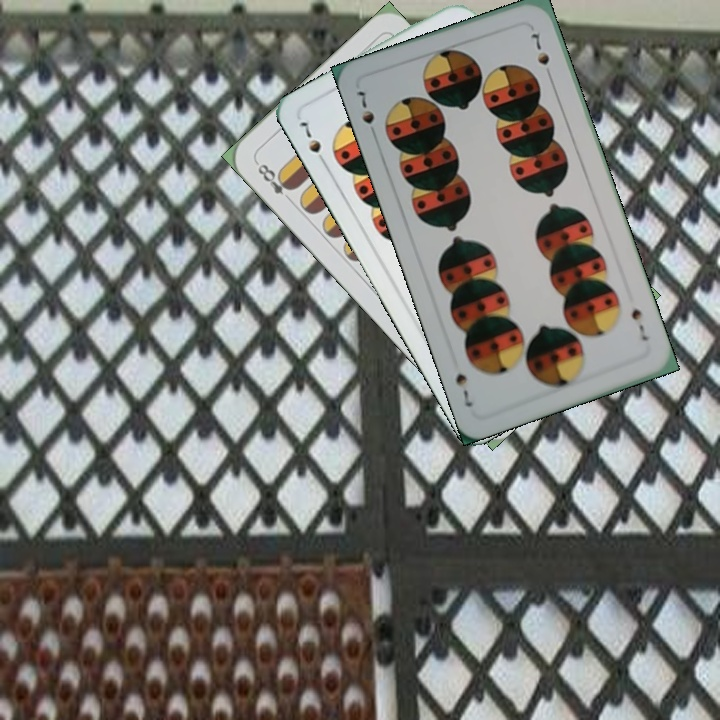E8: (251, 157, 297, 206)
S7: (296, 117, 331, 170), (352, 86, 380, 141), (627, 304, 651, 344)
